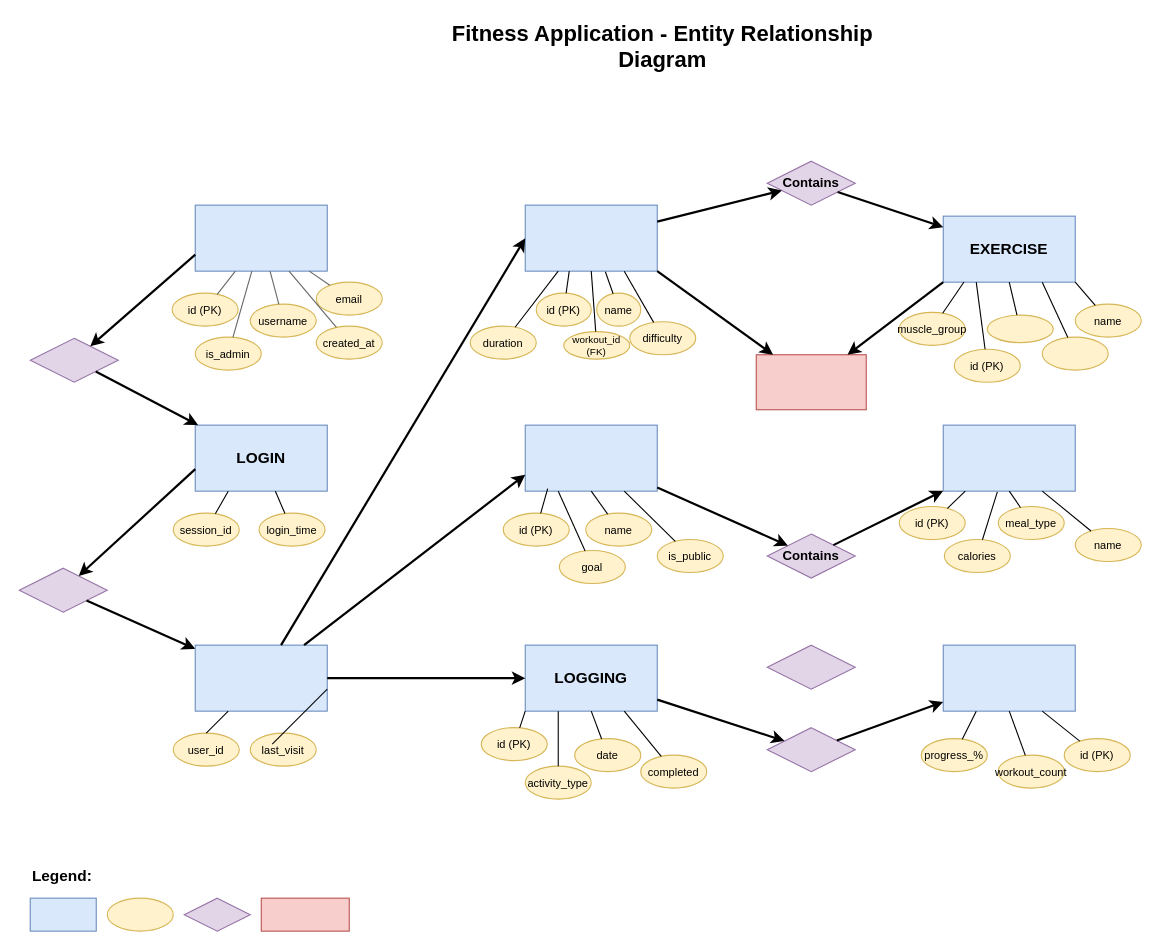
This 1161x950 diagram has some shape labels left out. The shapes that lost their labels are listed below. From the top down, each one's centre as x and y in pixels, then its label:
the point at 260,237: USER
the point at 590,237: WORKOUT
the point at 1019,328: exercise_id (FK)
the point at 73,359: Has
the point at 1074,353: equipment
the point at 810,382: WORKOUT_EXERCISES (Junction)
the point at 590,457: DIET_PLAN
the point at 1008,457: MEAL
the point at 62,589: Accesses
the point at 260,677: HOME (Dashboard)
the point at 810,666: Logged
the point at 1008,677: RESULTS (Progress)
the point at 810,749: Generates
the point at 62,914: Entity
the point at 139,914: Attribute
the point at 216,914: Relationship
the point at 304,914: Junction Table
